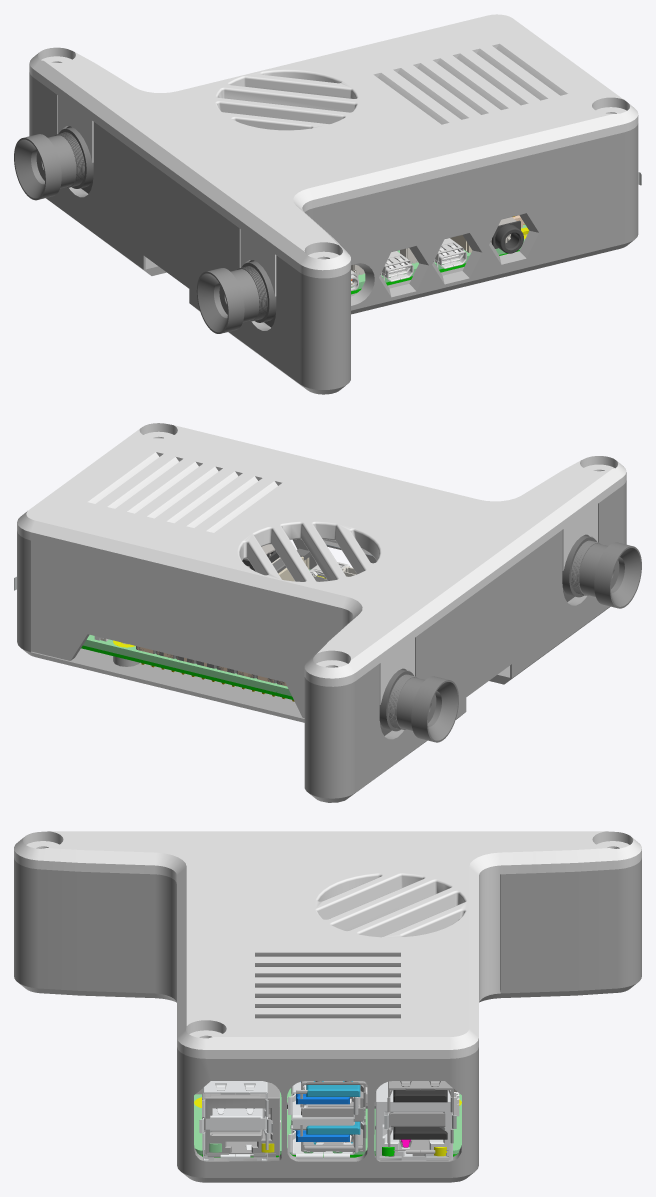
File: roboeye-v3.glb
3 views of the same model, one above another, from view 1: azimuth 30°, elevation 25°; view 2: azimuth 150°, elevation 25°; view 3: azimuth 270°, elevation 25° (orthographic). The views are drawn at different scales.
Visible parts, largest first — view 1: upper_enclosure_v3-1, lower_enclosure_v3-1, b0264-1, Microphone Plug, RPi4ModelB-1; view 2: upper_enclosure_v3-1, lower_enclosure_v3-1, b0264-1, PLATE_RASPBERRY_PI_5-2, PCB, RPi4ModelB-1; view 3: upper_enclosure_v3-1, lower_enclosure_v3-1, 2xUSB_2.0_PORT-1, 2X USB2.0 PORTS, RPi4ModelB-1, 2xUSB_3.0_PORT-1, 2X USB3.0 PORTS, RPi4ModelB-2, Gigabit Ethernet Port, RPi4ModelB-1, GIGABIT_ETHERNET_PORT-1, PLATE_RASPBERRY_PI_5-2.
Boxes of the visible parts, left/top/right/bottom form: upper_enclosure_v3-1: left=29, top=14, right=638, bottom=296; lower_enclosure_v3-1: left=29, top=72, right=638, bottom=394; b0264-1: left=14, top=126, right=276, bottom=333; Microphone Plug, RPi4ModelB-1: left=490, top=217, right=523, bottom=253; upper_enclosure_v3-1: left=17, top=423, right=626, bottom=717; lower_enclosure_v3-1: left=17, top=480, right=626, bottom=802; b0264-1: left=379, top=534, right=641, bottom=742; PLATE_RASPBERRY_PI_5-2: left=83, top=569, right=310, bottom=696; PCB, RPi4ModelB-1: left=81, top=643, right=293, bottom=699; upper_enclosure_v3-1: left=14, top=831, right=641, bottom=1058; lower_enclosure_v3-1: left=14, top=858, right=641, bottom=1182; 2xUSB_2.0_PORT-1: left=384, top=1081, right=456, bottom=1156; 2X USB2.0 PORTS, RPi4ModelB-1: left=199, top=1081, right=271, bottom=1161; 2xUSB_3.0_PORT-1: left=300, top=1081, right=367, bottom=1151; 2X USB3.0 PORTS, RPi4ModelB-2: left=287, top=1081, right=358, bottom=1159; Gigabit Ethernet Port, RPi4ModelB-1: left=375, top=1082, right=453, bottom=1160; GIGABIT_ETHERNET_PORT-1: left=202, top=1082, right=280, bottom=1157; PLATE_RASPBERRY_PI_5-2: left=194, top=1088, right=461, bottom=1155.
Size of the model in its own units: 0.1164 by 0.033 by 0.129.
